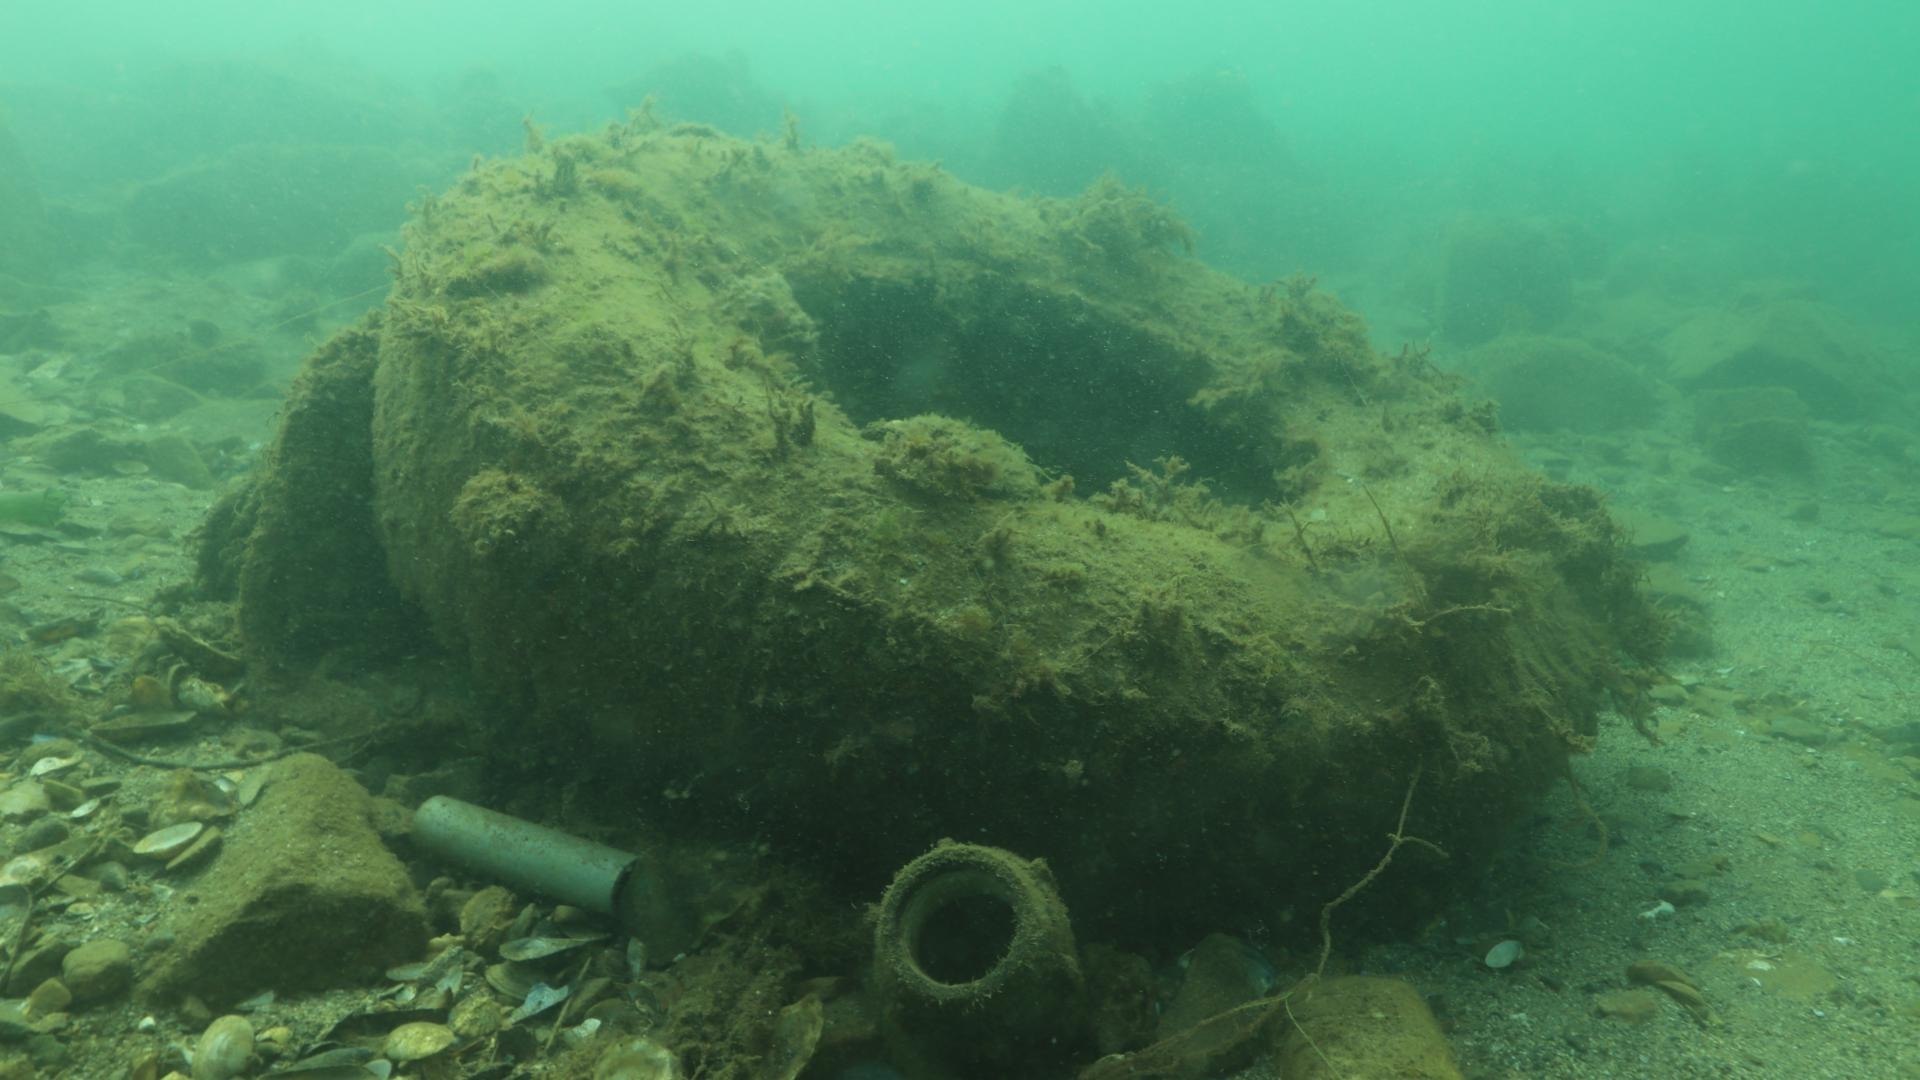tire: (375, 132, 1606, 911)
